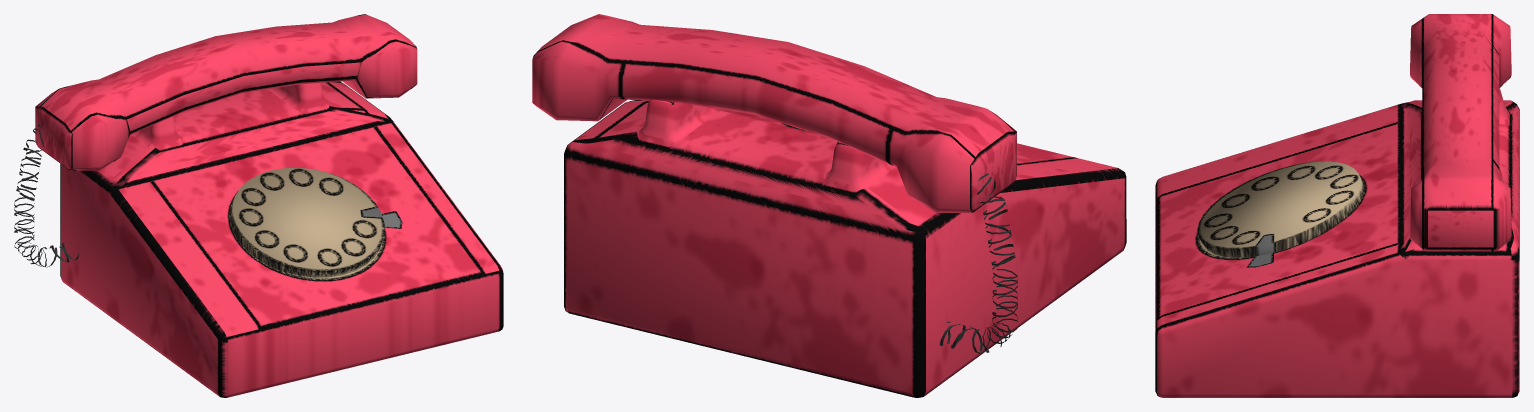
File: OldPhone.obj
The picture shows the model from 3 angles, left to right: view 1: azimuth 30°, elevation 25°; view 2: azimuth 150°, elevation 25°; view 3: azimuth 270°, elevation 25°; orthographic projection. The views are drawn at different scales.
Parts seen in each view (by area): view 1: Body, Tube, Wire; view 2: Body, Tube, Wire; view 3: Body, Tube.
Part boxes in pixels (left/top/right/bottom): Body: left=60, top=81, right=503, bottom=397; Tube: left=35, top=14, right=417, bottom=170; Wire: left=14, top=124, right=78, bottom=267; Body: left=564, top=99, right=1126, bottom=397; Tube: left=532, top=14, right=1016, bottom=212; Wire: left=939, top=173, right=1017, bottom=353; Body: left=1155, top=88, right=1519, bottom=397; Tube: left=1410, top=14, right=1511, bottom=251.
Size of the model in its own units: 2.64 by 1.49 by 2.
